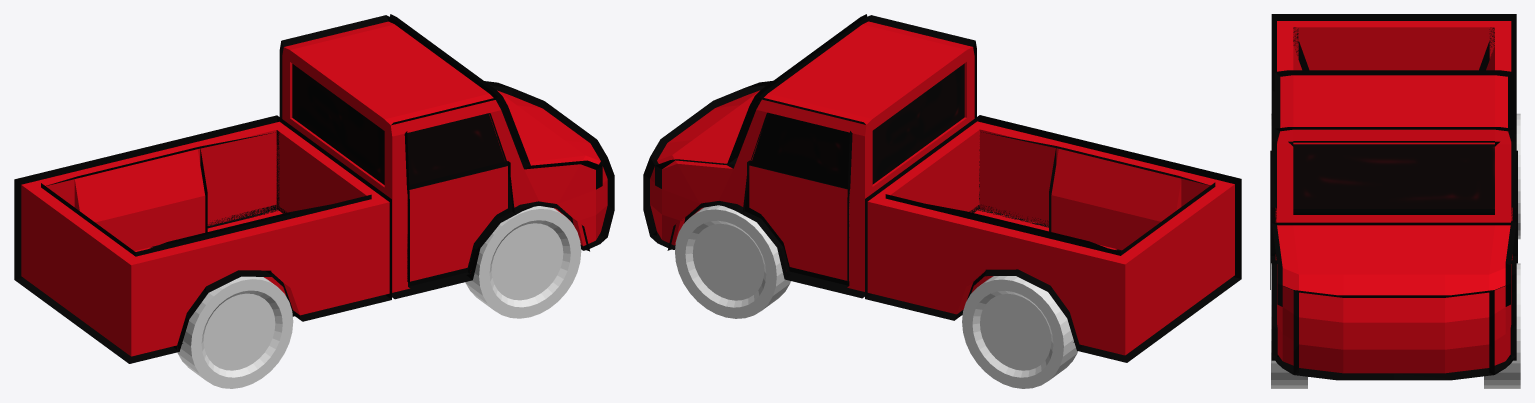
File: samochod_outline.fbx
3 renders of one model, left to right at view 1: azimuth 30°, elevation 25°; view 2: azimuth 150°, elevation 25°; view 3: azimuth 270°, elevation 25°, orthographic. The views are drawn at different scales.
Visible parts, largest first — view 1: Cube, outline, Cylinder.001, Cylinder; view 2: Cube, outline, Cylinder.002, Cylinder.003; view 3: Cube, outline, Cylinder.003, Cylinder, Cylinder.002.
Boxes of the visible parts, box(x1,y1,x2,y2) form: Cube: box(21, 21, 607, 356); outline: box(14, 14, 614, 363); Cylinder.001: box(177, 276, 293, 388); Cylinder: box(465, 206, 581, 318); Cube: box(650, 21, 1234, 355); outline: box(643, 14, 1241, 362); Cylinder.002: box(962, 276, 1077, 388); Cylinder.003: box(675, 205, 790, 318); Cube: box(1275, 21, 1512, 373); outline: box(1270, 14, 1517, 380); Cylinder.003: box(1484, 263, 1520, 388); Cylinder: box(1271, 263, 1307, 388); Cylinder.002: box(1516, 113, 1520, 239).
Bounding box in the file's own units: 1159 × 499 × 467.
Materials: 2 (1 with a texture image).
